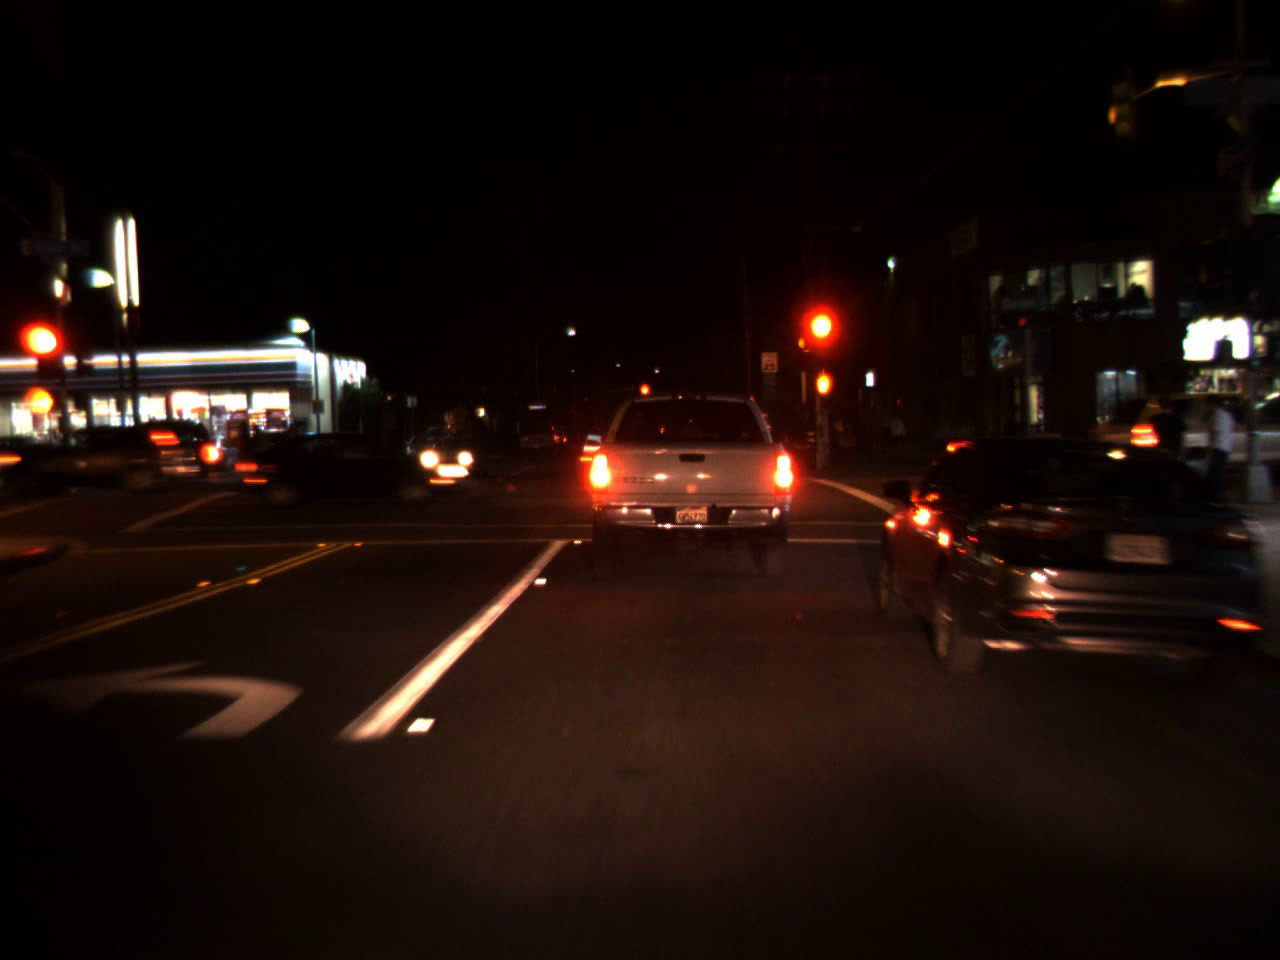stop: (23, 321, 66, 391), (805, 309, 838, 368), (637, 382, 650, 406)
